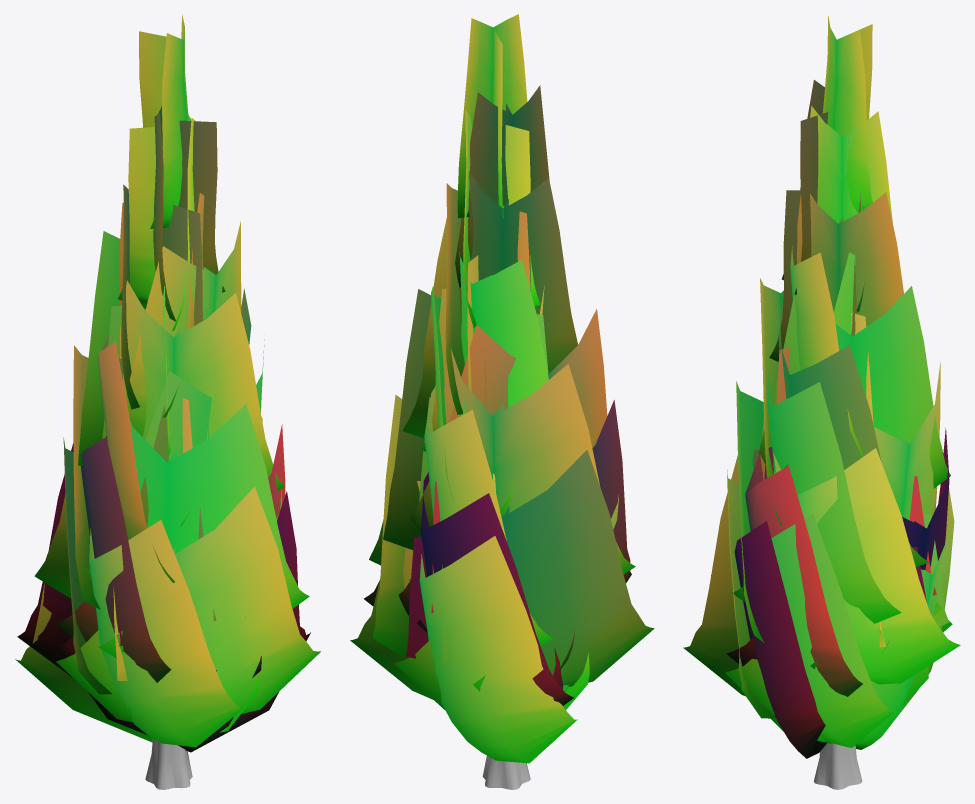
File: cypress_straight_blue.fbx
3 views of the same model, side by side, from view 1: azimuth 30°, elevation 25°; view 2: azimuth 150°, elevation 25°; view 3: azimuth 270°, elevation 25° (orthographic).
Visible parts, largest first — view 1: Tree_1, Tree_0; view 2: Tree_1, Tree_0; view 3: Tree_1, Tree_0.
Boxes of the visible parts, x1,y1,x2,y2 form: Tree_1: (15,14,320,752); Tree_0: (145,738,192,789); Tree_1: (350,14,654,763); Tree_0: (482,755,530,789); Tree_1: (683,16,960,758); Tree_0: (814,743,862,789).
Size of the model in its own units: 401 by 1134 by 375.
